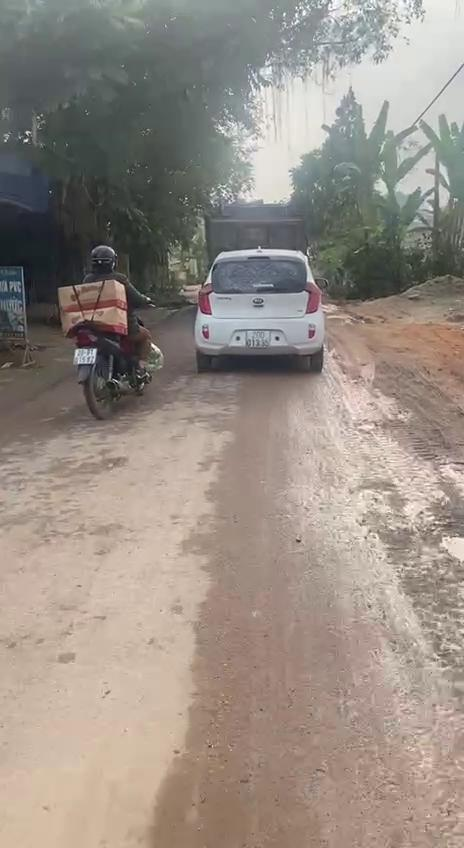pothole: (435, 516, 464, 574)
